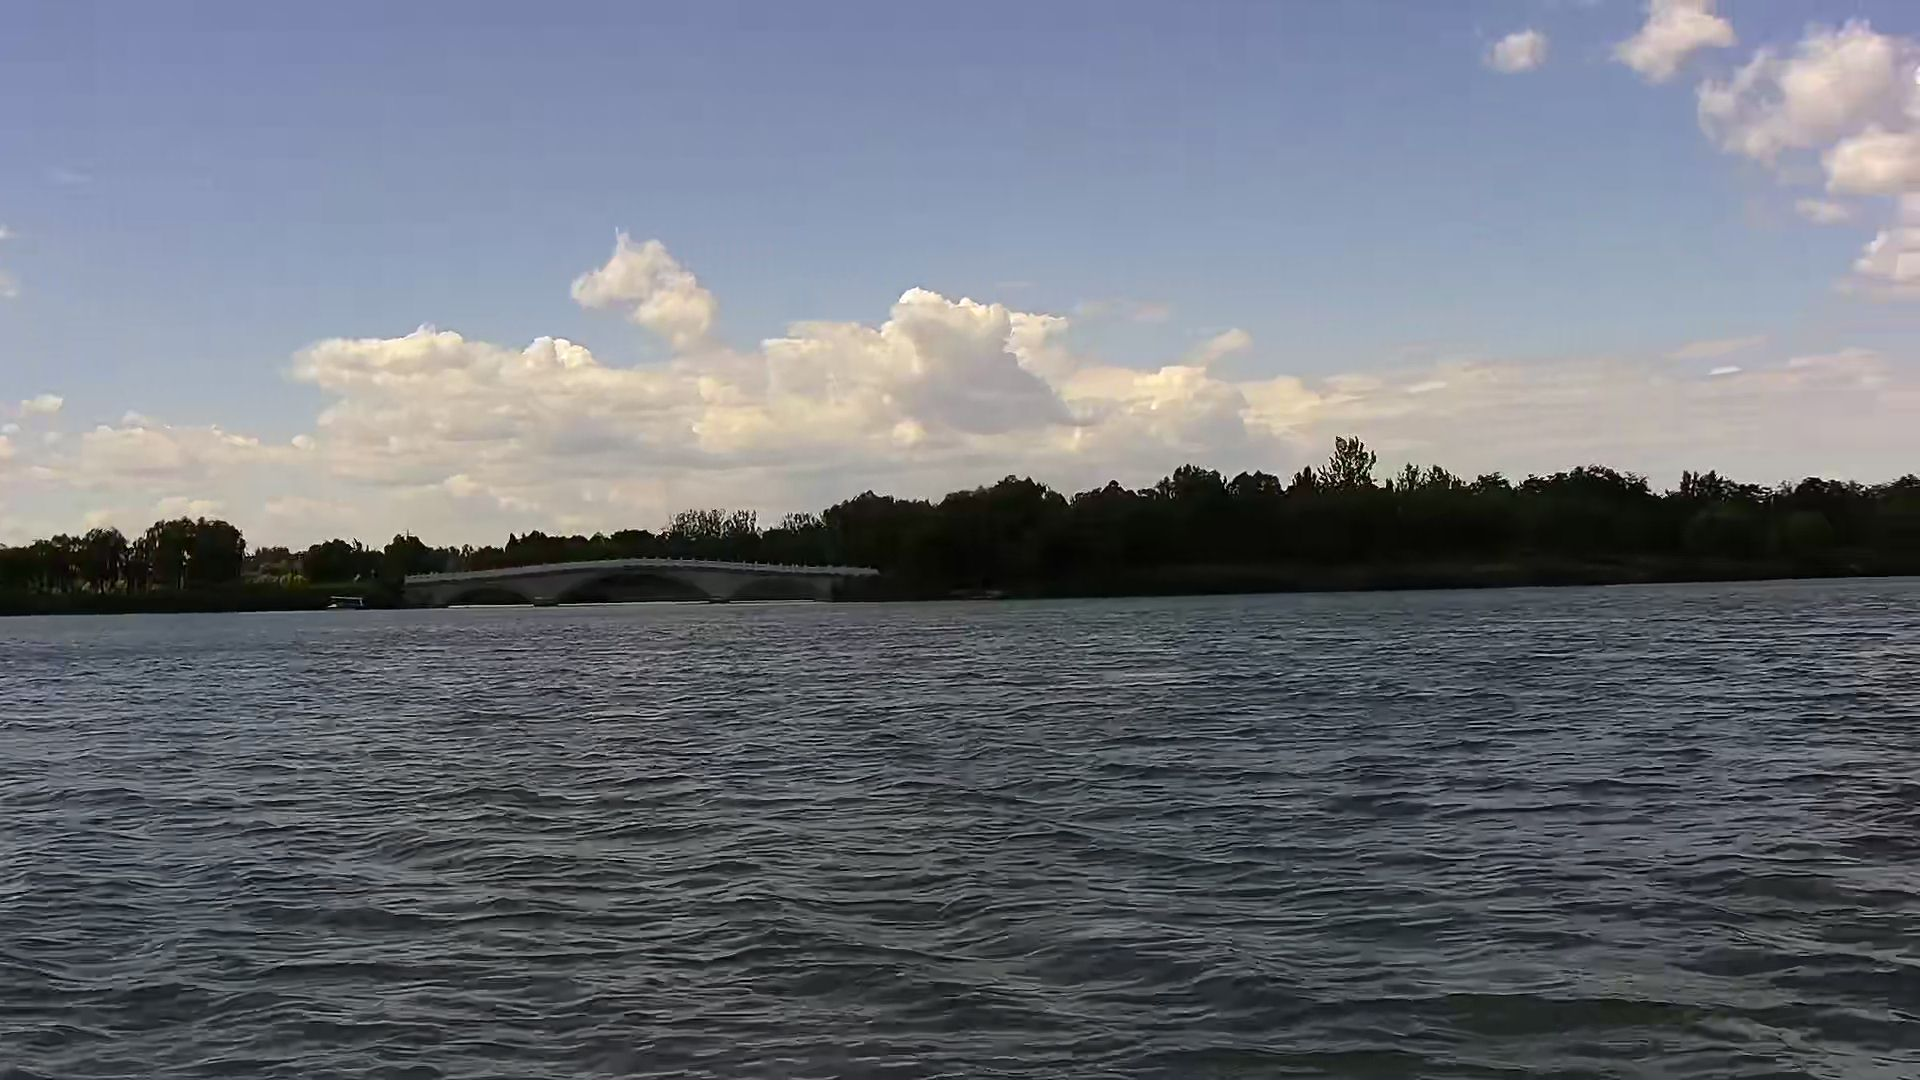bridge: (400, 551, 884, 607)
